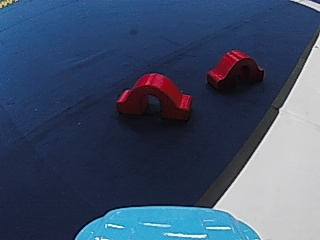bridge: (113, 69, 198, 120), (204, 46, 264, 93)
